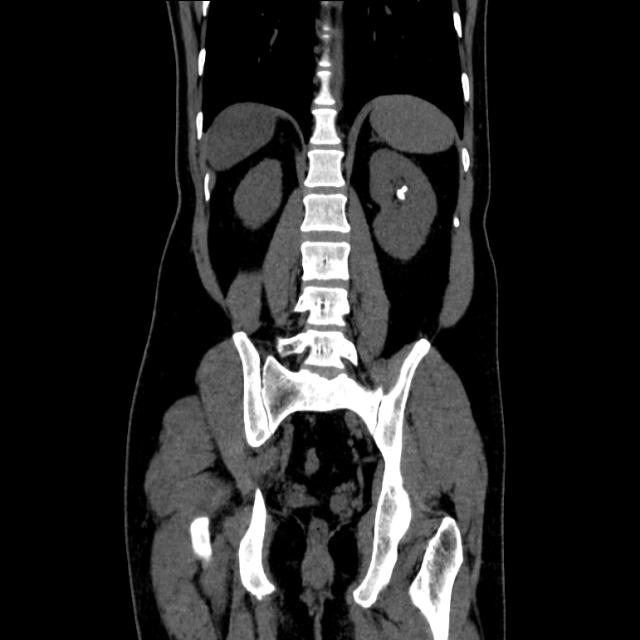kidneystone: (396, 186, 408, 200)
